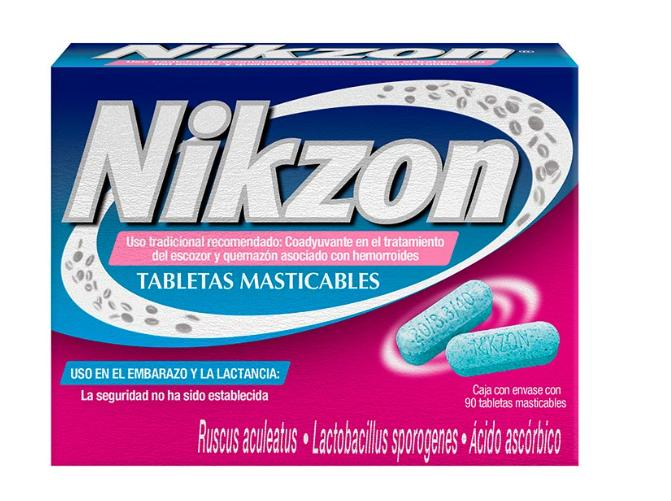brand: (58, 85, 525, 227)
extra_detail: (137, 269, 386, 298)
